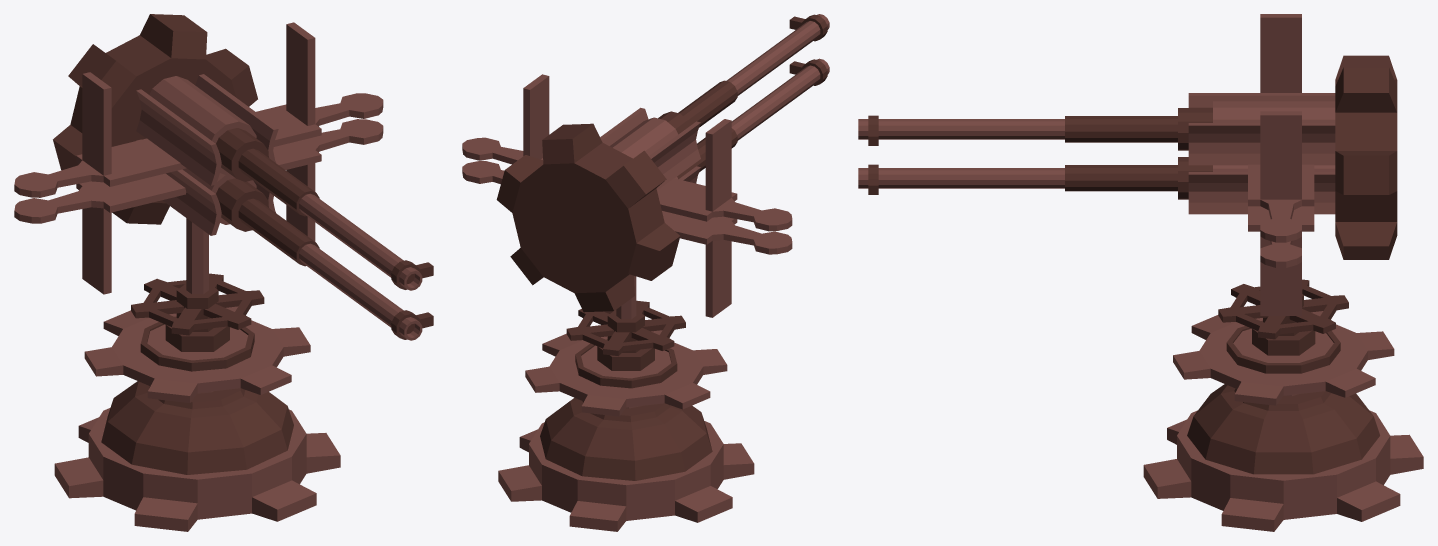
File: gun-6-4c47374126.glb
The picture shows the model from 3 angles, left to right: view 1: azimuth 30°, elevation 25°; view 2: azimuth 150°, elevation 25°; view 3: azimuth 270°, elevation 25°; orthographic projection. The views are drawn at different scales.
Visible parts, largest first — view 1: Gun_6.obj; view 2: Gun_6.obj; view 3: Gun_6.obj.
Boxes of the visible parts, left/top/right/bottom form: Gun_6.obj: left=14, top=14, right=433, bottom=531; Gun_6.obj: left=462, top=14, right=829, bottom=531; Gun_6.obj: left=858, top=14, right=1423, bottom=531.
Size of the model in its own units: 2.02 by 2.23 by 2.78.
